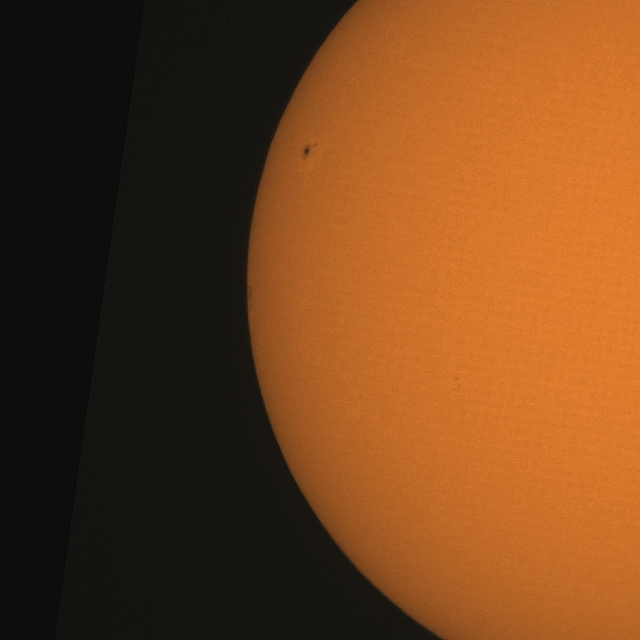sunspot: (302, 142, 318, 160)
